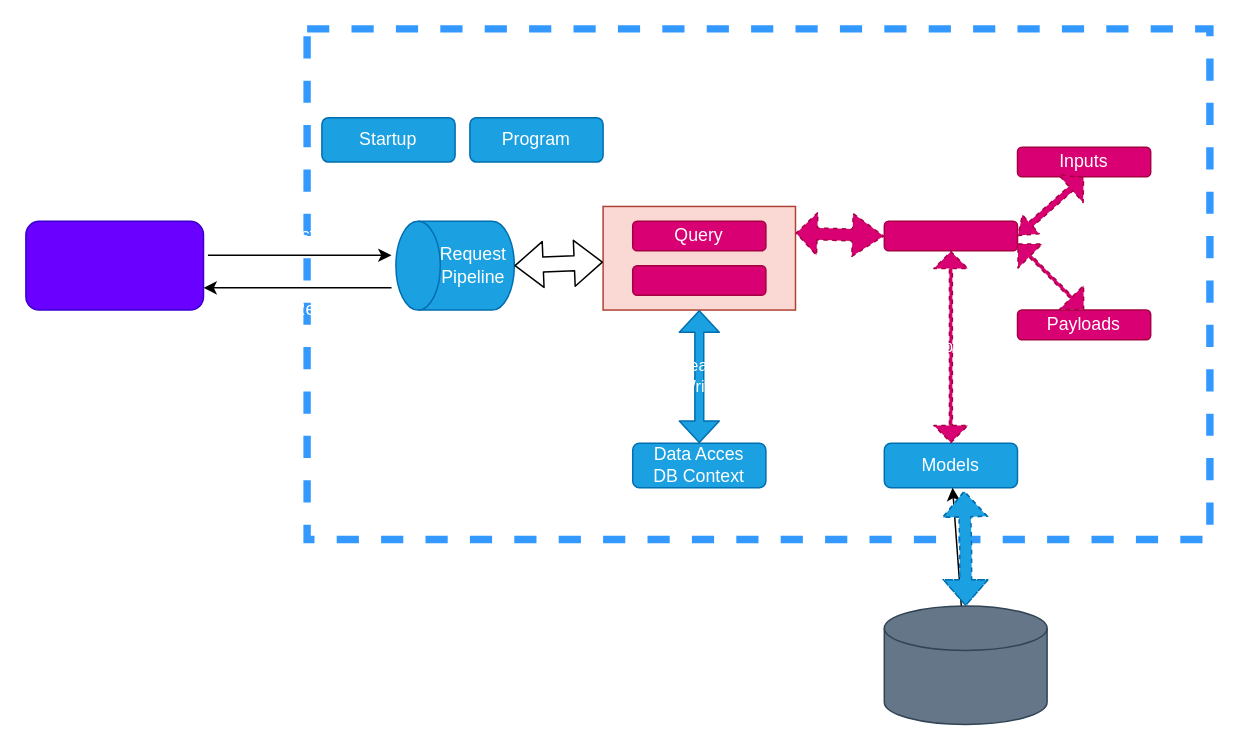
Some shapes in this 1239 by 750 pixel diagram are drawn without their labels. Each missing label, with the centre of its shape:
GraphQL Client: the point at 114,265
Mutation: the point at 698,279
SQL Server DB: the point at 965,664
Types: the point at 950,235
